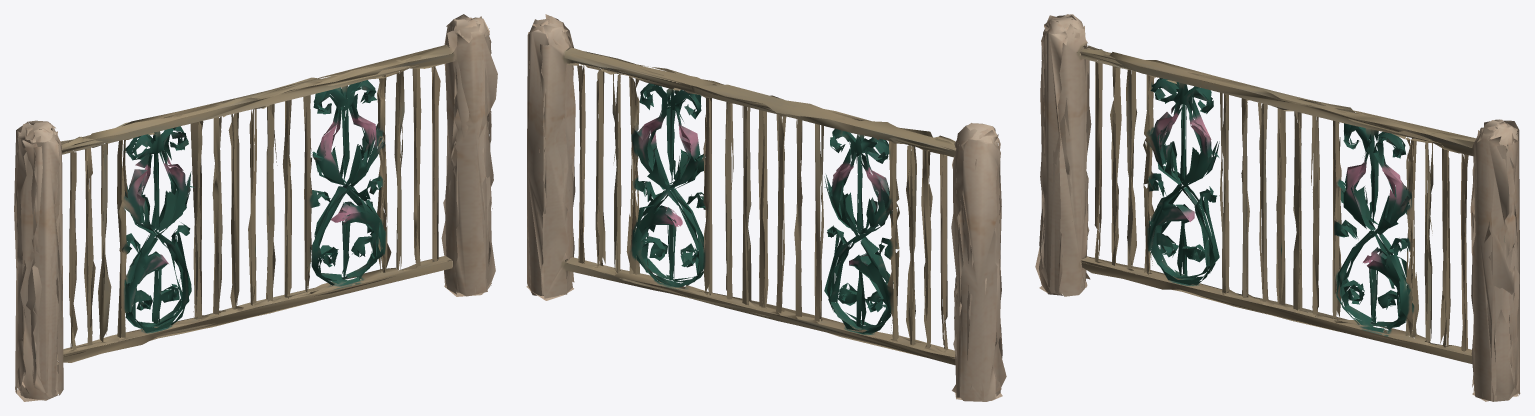
Rendered from unified--detail--fence.glb.
3 views of the same model, side by side, from view 1: azimuth 30°, elevation 25°; view 2: azimuth 150°, elevation 25°; view 3: azimuth 330°, elevation 25° (orthographic).
Parts seen in each view (by area): view 1: fence-1; view 2: fence-1; view 3: fence-1.
Part boxes in pixels (bbox=[...]): fence-1: bbox=[14, 14, 497, 401]; fence-1: bbox=[526, 14, 1006, 401]; fence-1: bbox=[1035, 14, 1520, 401].
Size of the model in its own units: 1.82 by 0.9931 by 0.18.
1 material, 1 textured.
